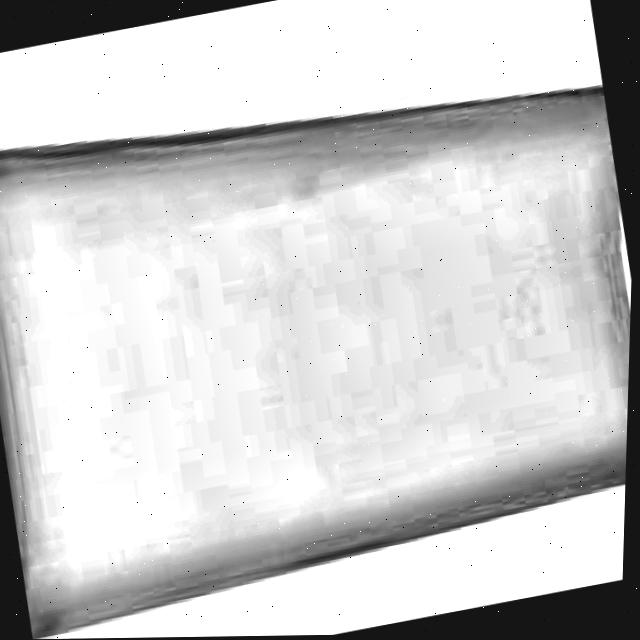glass: (0, 82, 633, 639)
